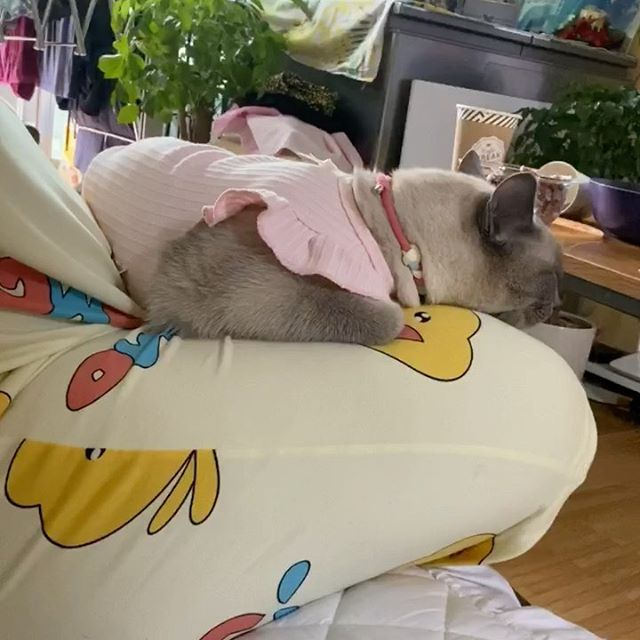cat: (440, 160, 617, 337)
